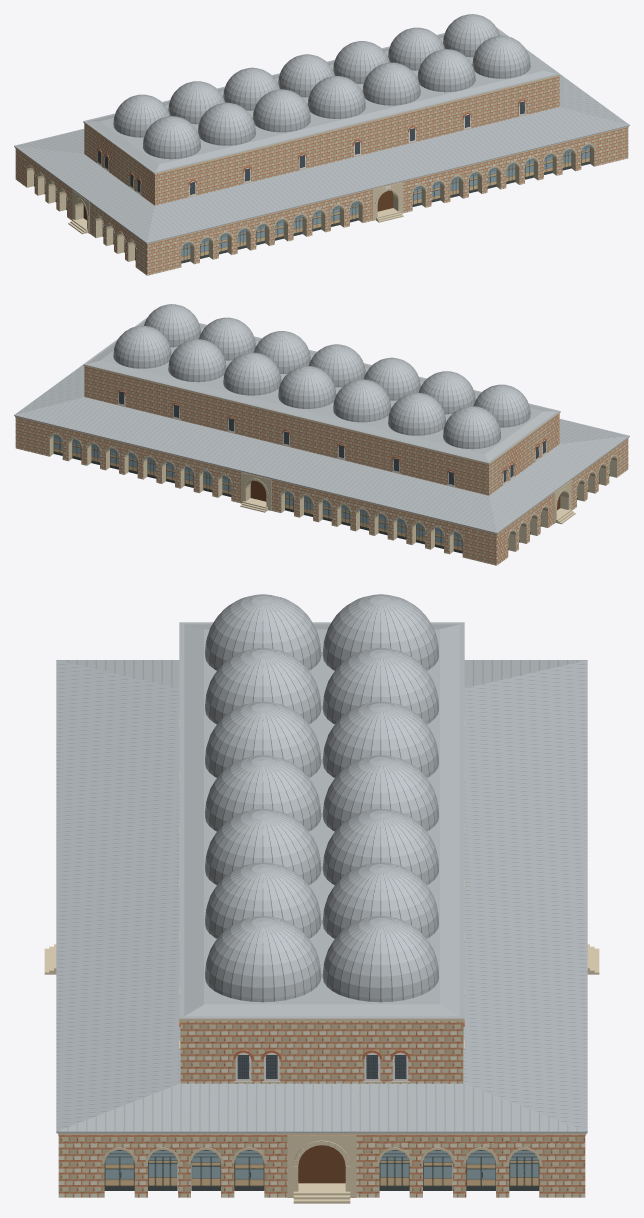
The model's file is bedesten_v10.glb.
The picture shows the model from 3 angles, top to bottom: view 1: azimuth 30°, elevation 25°; view 2: azimuth 150°, elevation 25°; view 3: azimuth 270°, elevation 25°; orthographic projection. The views are drawn at different scales.
Visible parts, largest first — view 1: Dukkanlar, Kubbeler, Govde, Govde_Ortu, Kapilar; view 2: Dukkanlar, Kubbeler, Govde, Govde_Ortu, Kapilar; view 3: Dukkanlar, Kubbeler, Govde_Ortu, Govde, Kapilar.
Boxes of the visible parts, <box> form: Dukkanlar: <box>14,27,629,275</box>; Kubbeler: <box>113,14,530,159</box>; Govde: <box>84,29,559,205</box>; Govde_Ortu: <box>87,31,556,171</box>; Kapilar: <box>68,182,403,234</box>; Dukkanlar: <box>14,317,629,565</box>; Kubbeler: <box>113,304,530,449</box>; Govde: <box>84,319,559,495</box>; Govde_Ortu: <box>87,321,556,461</box>; Kapilar: <box>240,472,575,524</box>; Dukkanlar: <box>56,622,587,1197</box>; Kubbeler: <box>205,594,438,1002</box>; Govde_Ortu: <box>184,624,459,1016</box>; Govde: <box>179,623,464,1083</box>; Kapilar: <box>44,944,599,1203</box>.
Size of the model in its own units: 72.5 by 14.2 by 35.3.
15 materials, 5 textured.
